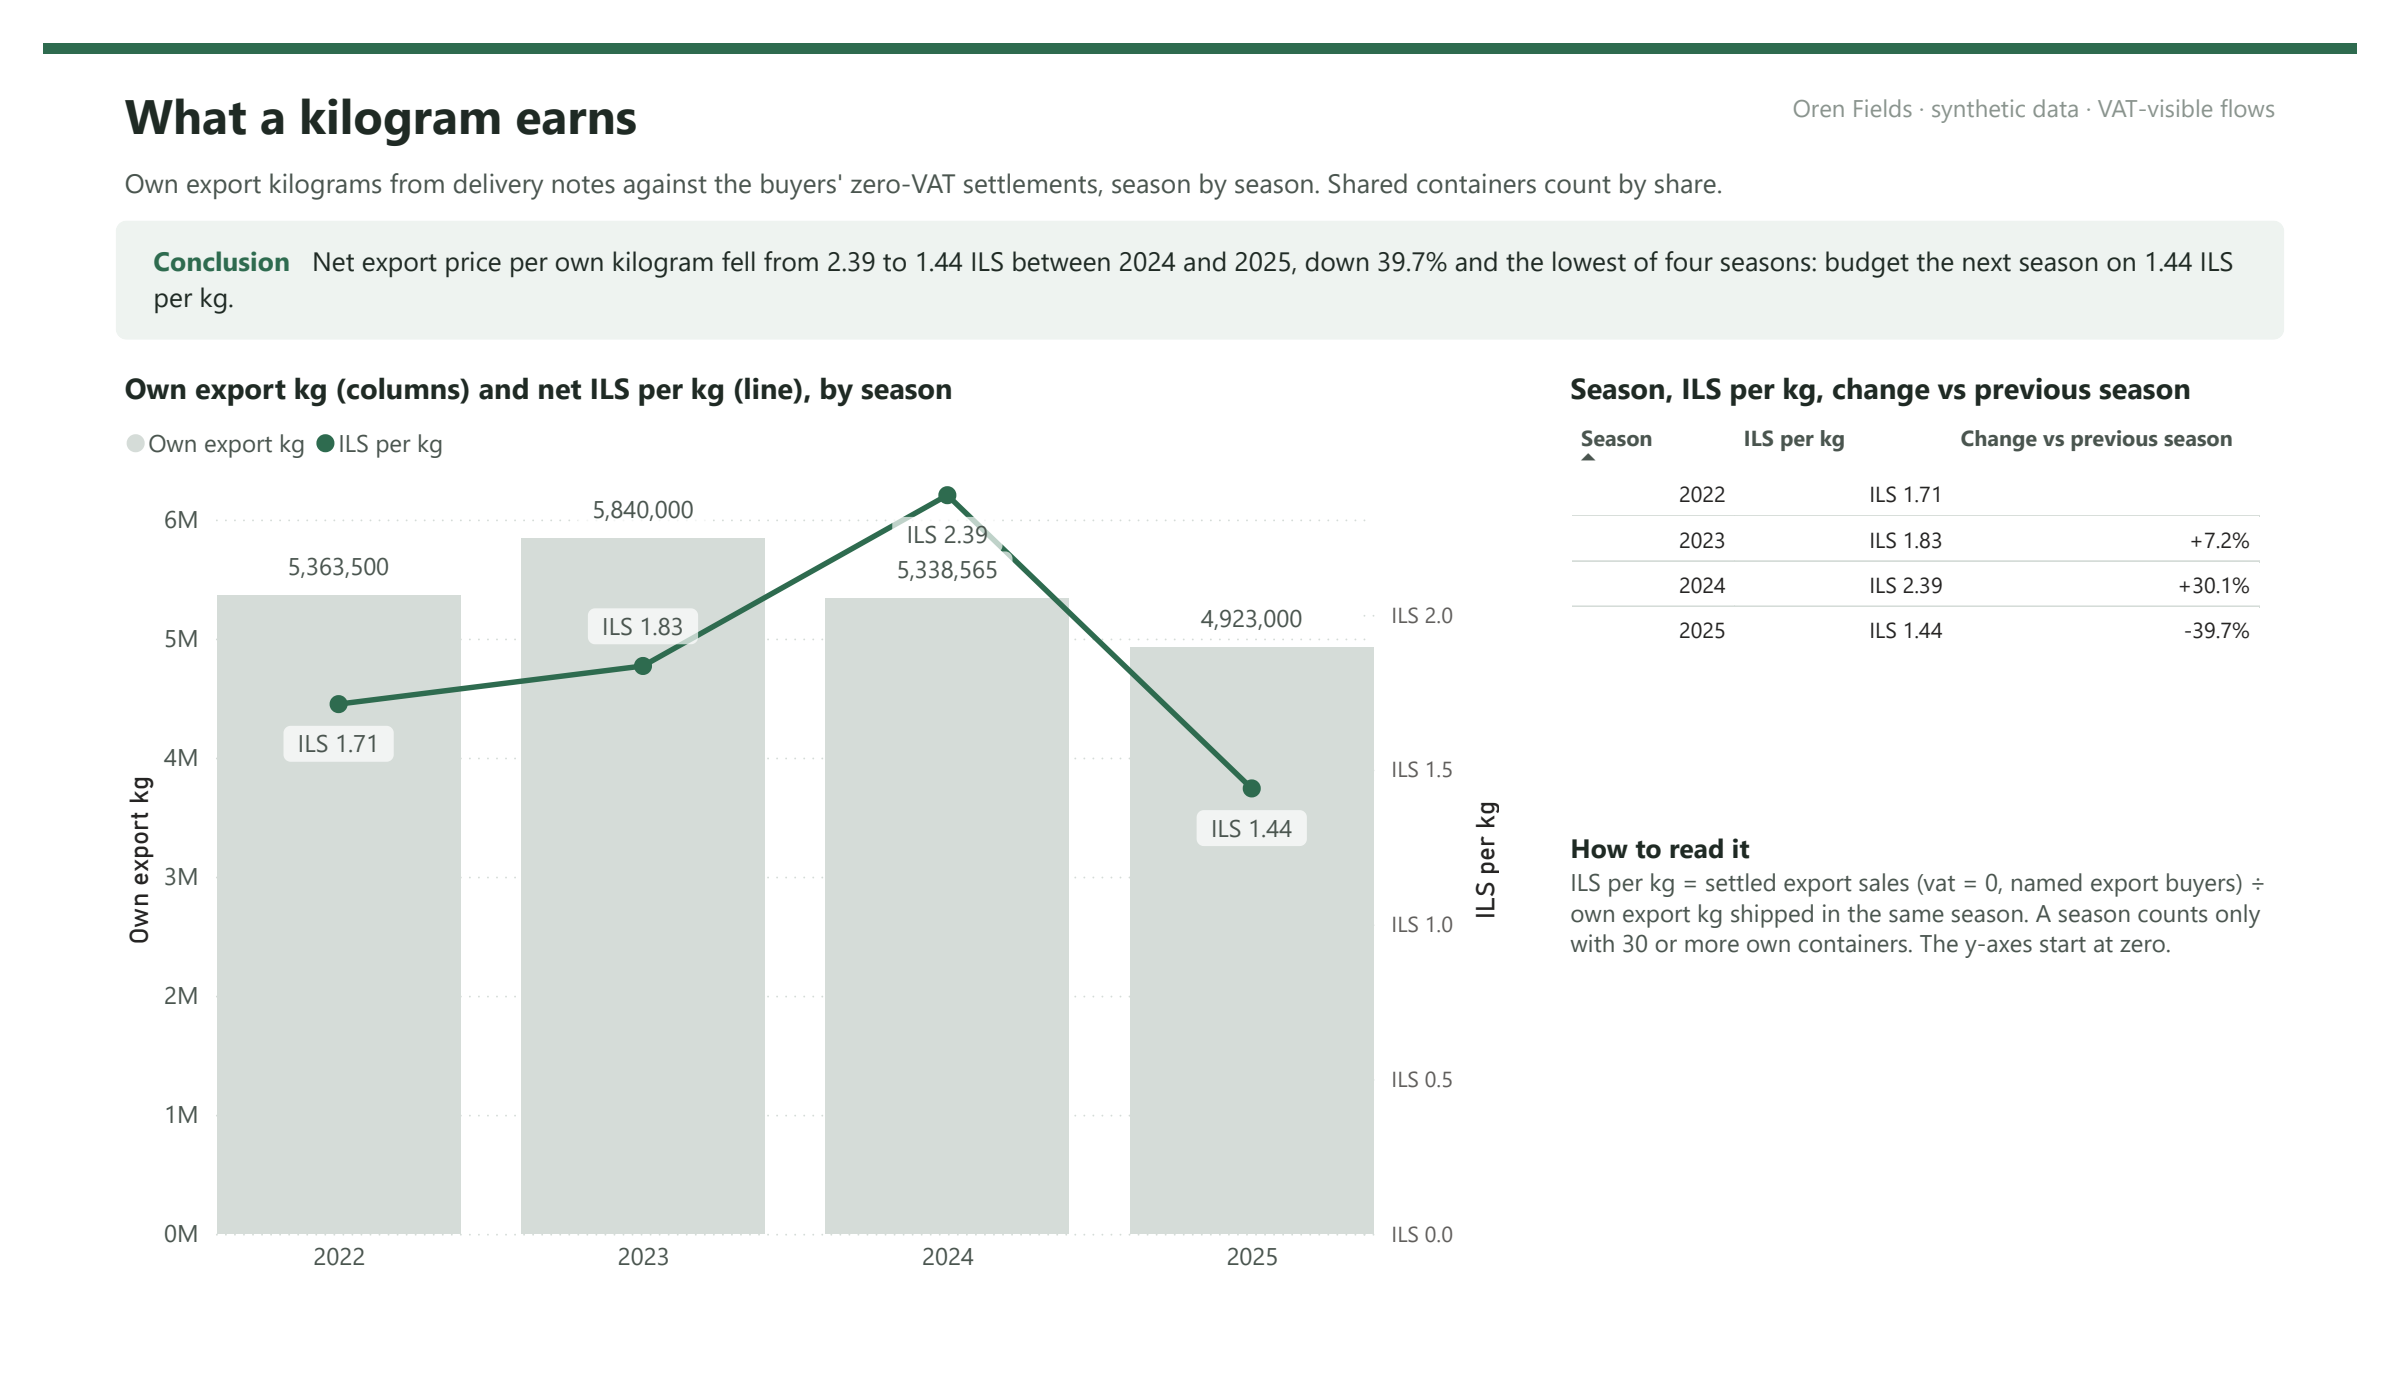

What the dashboard file says about the page in this screenshot:
{"tool":"powerbi","page":{"name":"What a kilo earns","canvas":[1280,720],"ordinal":1},"visuals":[{"type":"shape","box":[0,0,1280,6],"z":0},{"type":"textbox","box":[840,430,400,150],"z":0},{"type":"textbox","box":[40,16,820,48],"z":1},{"type":"textbox","box":[860,22,380,34],"z":1},{"type":"textbox","box":[40,62,1200,34],"z":1},{"type":"shape","box":[40,98,1200,66],"z":1},{"type":"textbox","box":[56,105,1168,56],"z":2},{"type":"lineClusteredColumnComboChart","title":"Own export kg (columns) and net ILS per kg (line), by season","fields":{"Category":["dim_date.year"],"Y":["_Measures.Own export kg"],"Y2":["_Measures.ILS per kg"]},"box":[40,180,770,510],"z":2},{"type":"tableEx","title":"Season, ILS per kg, change vs previous season","fields":{"Values":["dim_date.year","_Measures.ILS per kg","_Measures.Change vs previous season"]},"box":[840,180,400,230],"z":2}]}

Visuals, with their boxes in screenshot pixels (x1, y1, x2, y2), scaled from the page's 1280x720 canvas onto the 2400x1388 screenshot:
shape: [0, 0, 2399, 12]
textbox: [1575, 829, 2325, 1118]
textbox: [75, 31, 1612, 123]
textbox: [1612, 42, 2325, 108]
textbox: [75, 120, 2325, 185]
shape: [75, 189, 2325, 316]
textbox: [105, 202, 2295, 310]
"Own export kg (columns) and net ILS per kg (line), by season" lineClusteredColumnComboChart: [75, 347, 1519, 1330]
"Season, ILS per kg, change vs previous season" tableEx: [1575, 347, 2325, 790]
